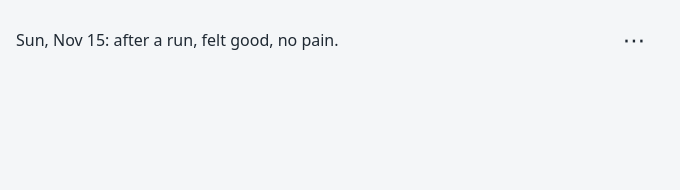
CheckInList › shows the error when deleting fails
Click the button named "Actions for Sun, Nov 15 check-in": (634, 40) top-left (612, 18), bottom-right (656, 62)
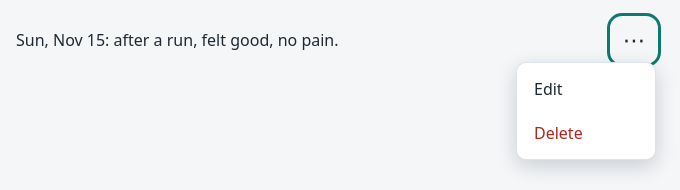
Click the menu item with aria-label "Delete Sun, Nov 15 check-in": (586, 133) top-left (521, 111), bottom-right (651, 155)
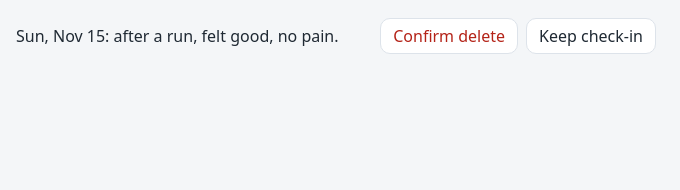
Click the button "Confirm delete": (449, 36) top-left (380, 18), bottom-right (518, 54)
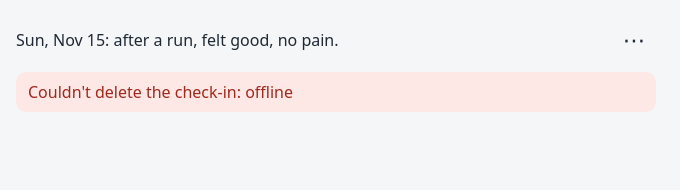
Check: the text "Couldn't delete the check-in: offline" is shown, box top-left (16, 72), bottom-right (656, 112)
